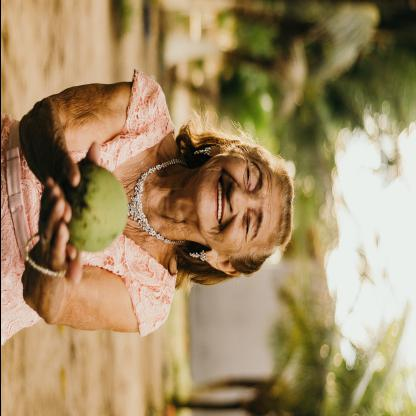Eye: (240, 207, 252, 244), (240, 158, 252, 192)
Mouth: (212, 174, 224, 226)
Nose: (226, 179, 248, 220)
